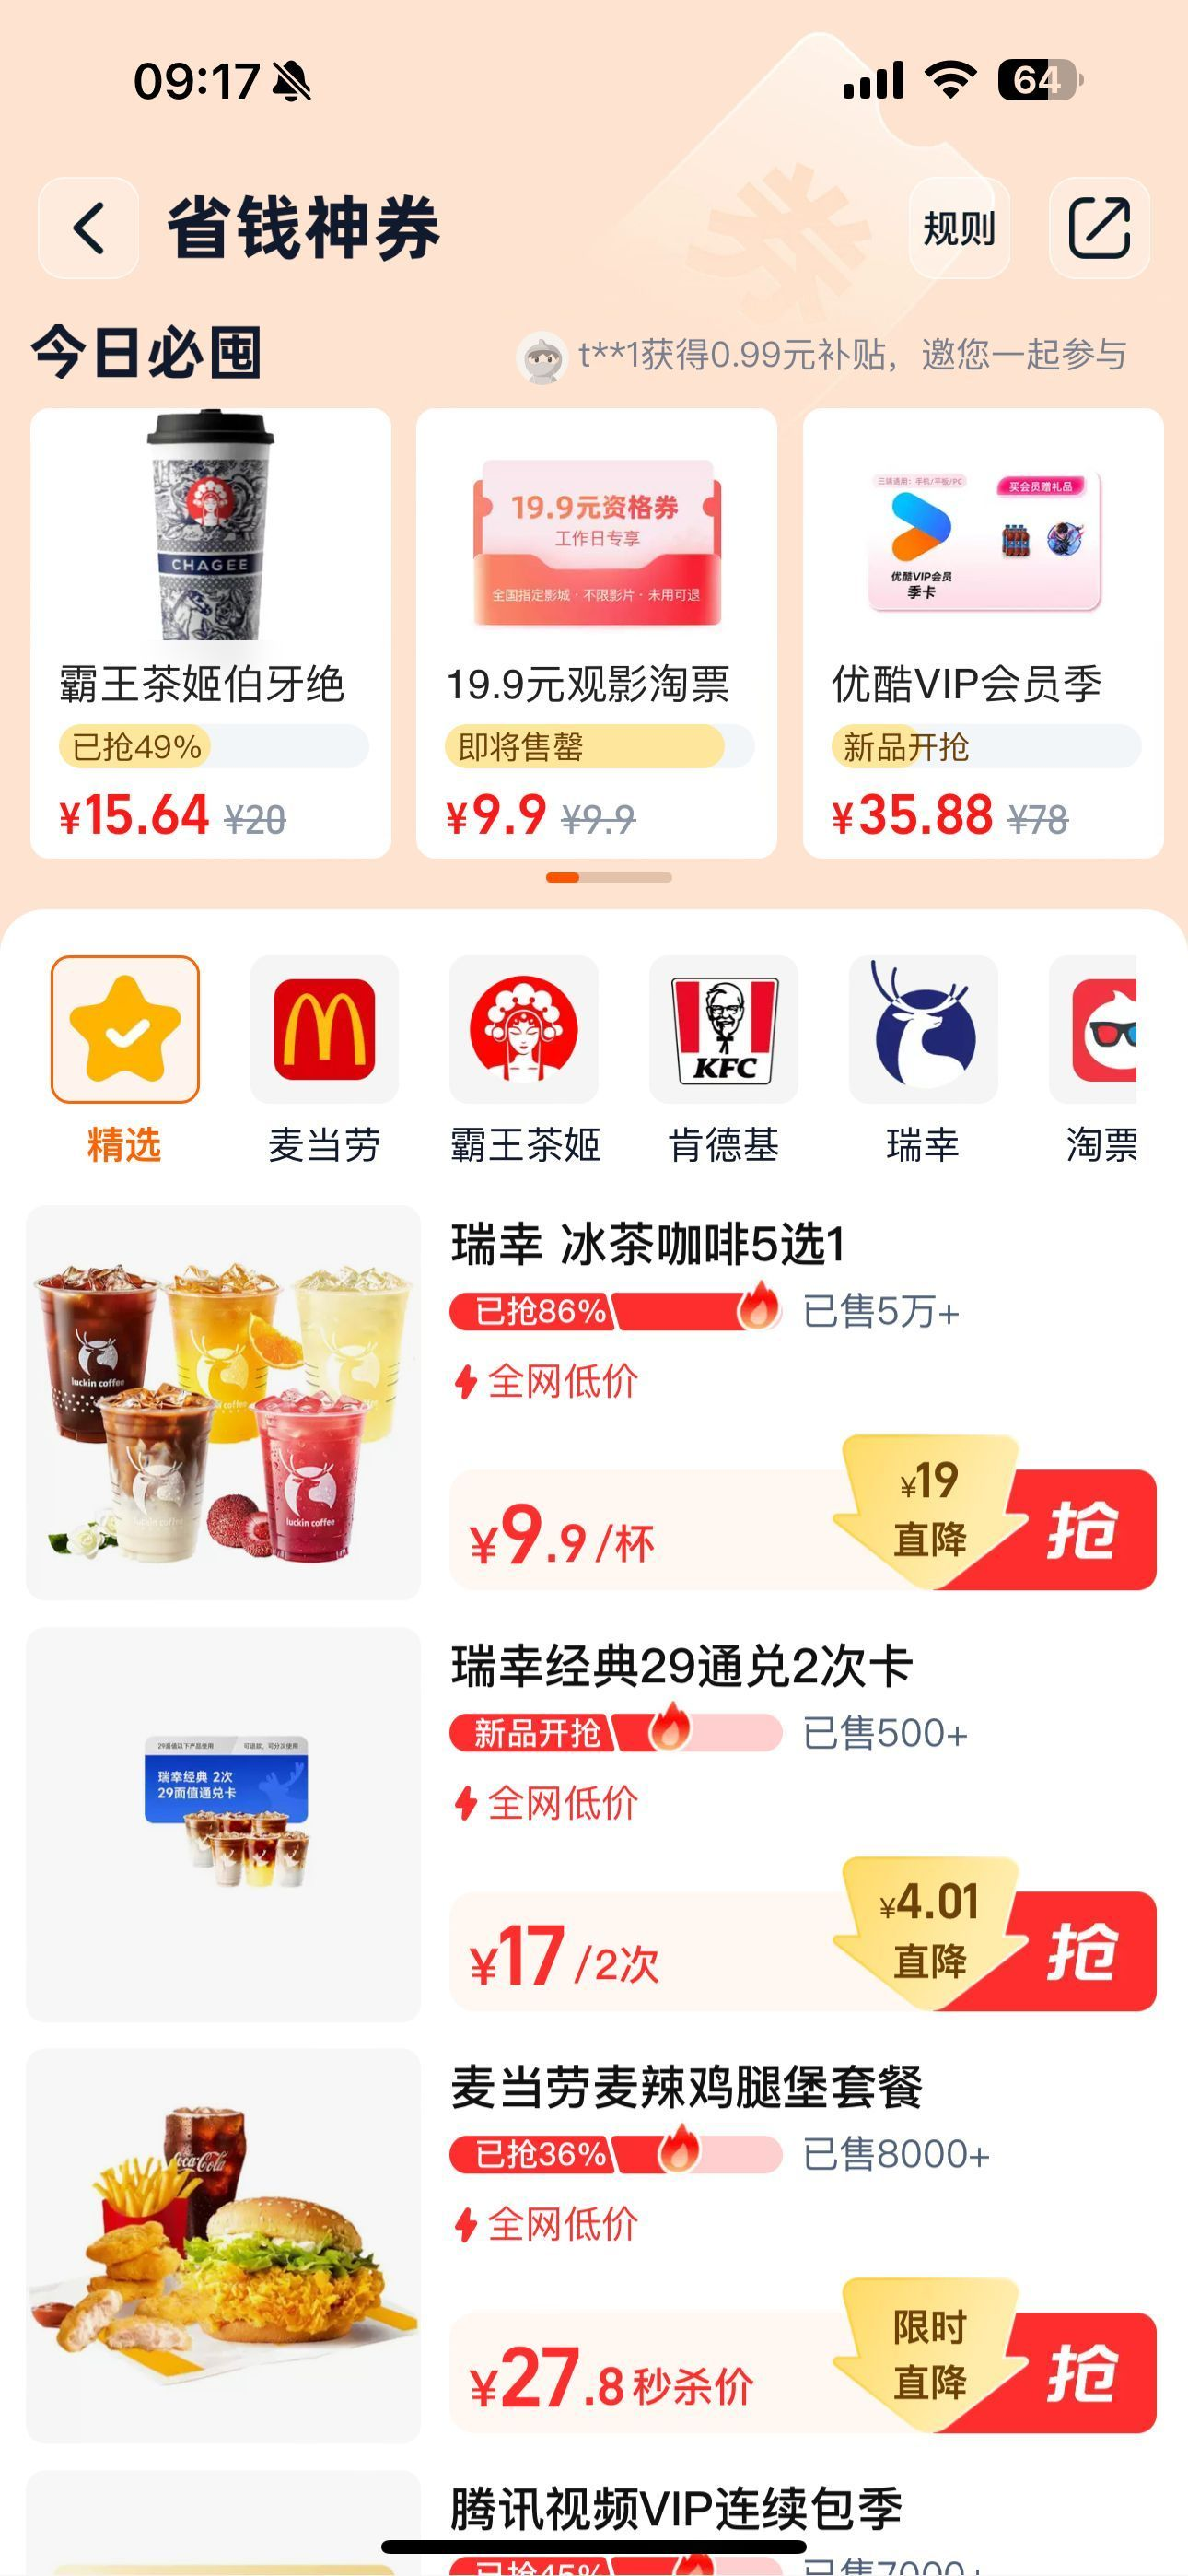item: (5, 2044, 1183, 2471), (8, 1198, 1186, 1620), (5, 1625, 1178, 2037)
op_bar: (16, 159, 1183, 311)
seckill: (12, 394, 1178, 890)
